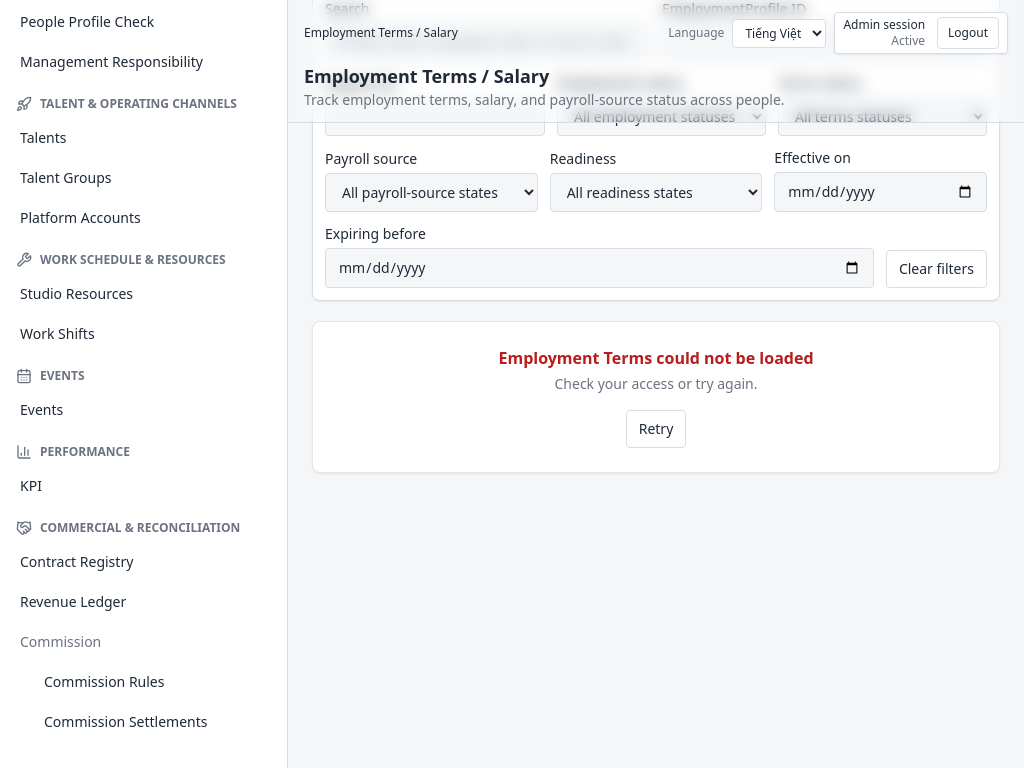
Test: Employment Terms admin workspace › renders the initial load error state
(page scrolled)
Expected: the text "Employment Terms could not be loaded" is shown, 498,347 -> 814,369
Click the button "Retry": click(656, 429) 626,410 -> 686,448
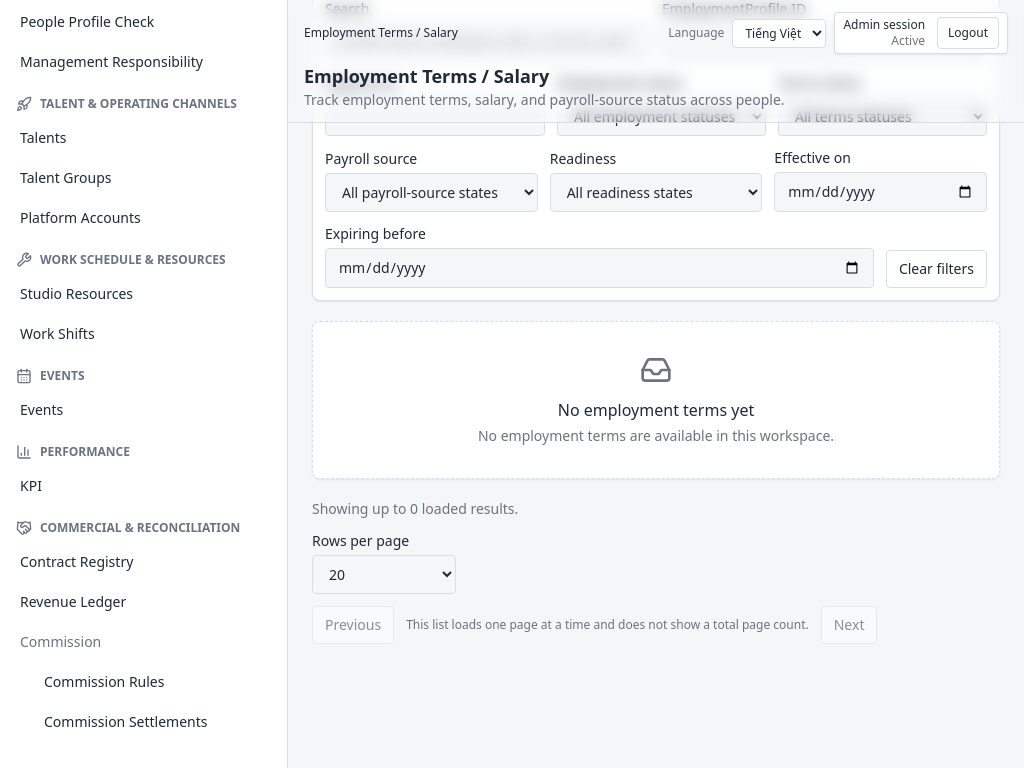
Now the text "No employment terms yet" is shown, box 558,399 -> 754,421
